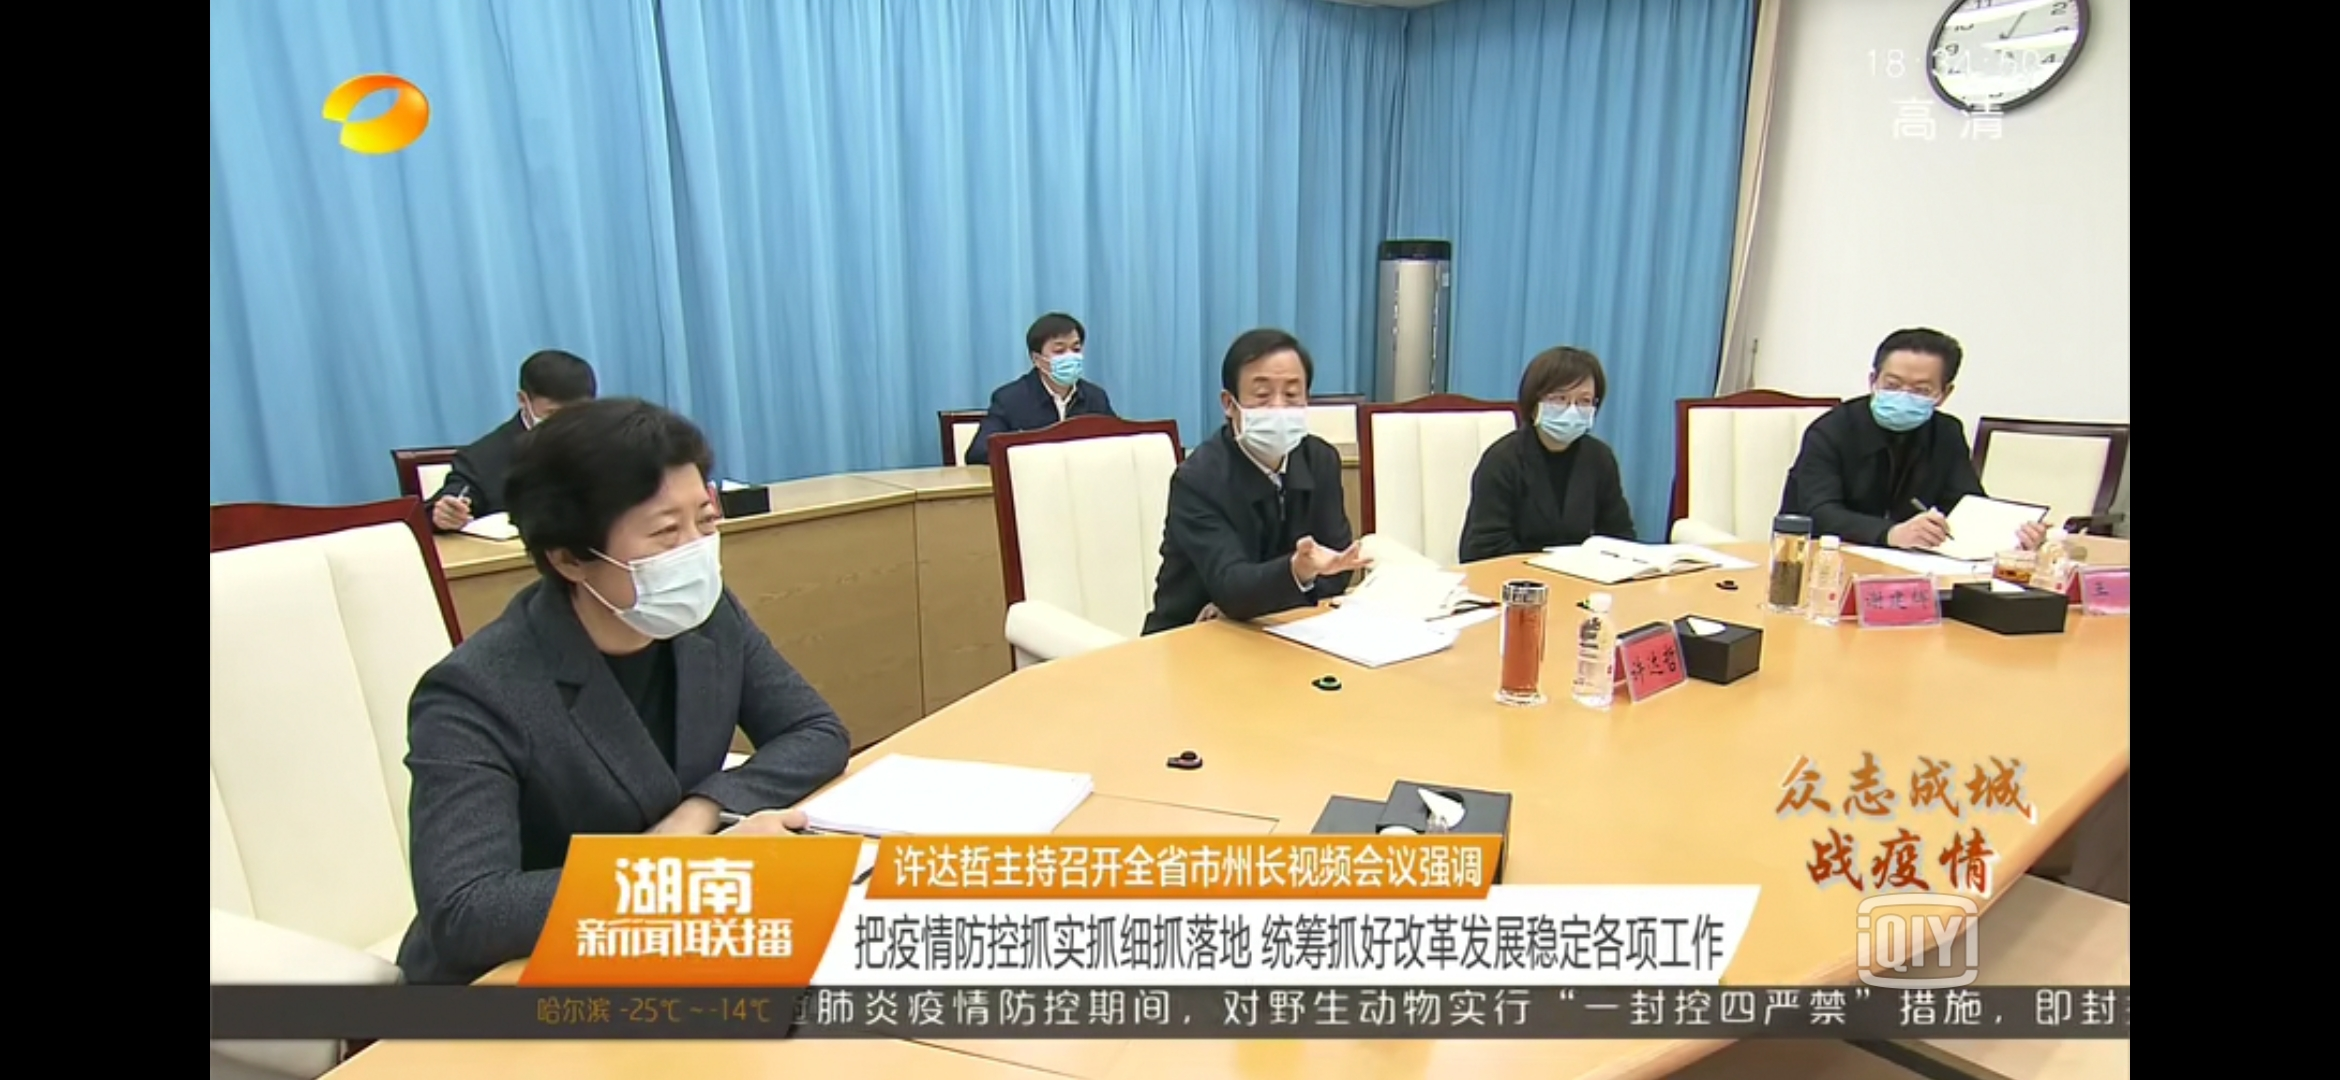correctlyWear: (542, 470, 722, 643), (1219, 360, 1310, 461), (1867, 351, 1958, 431), (1527, 374, 1601, 453), (1028, 334, 1086, 386)
